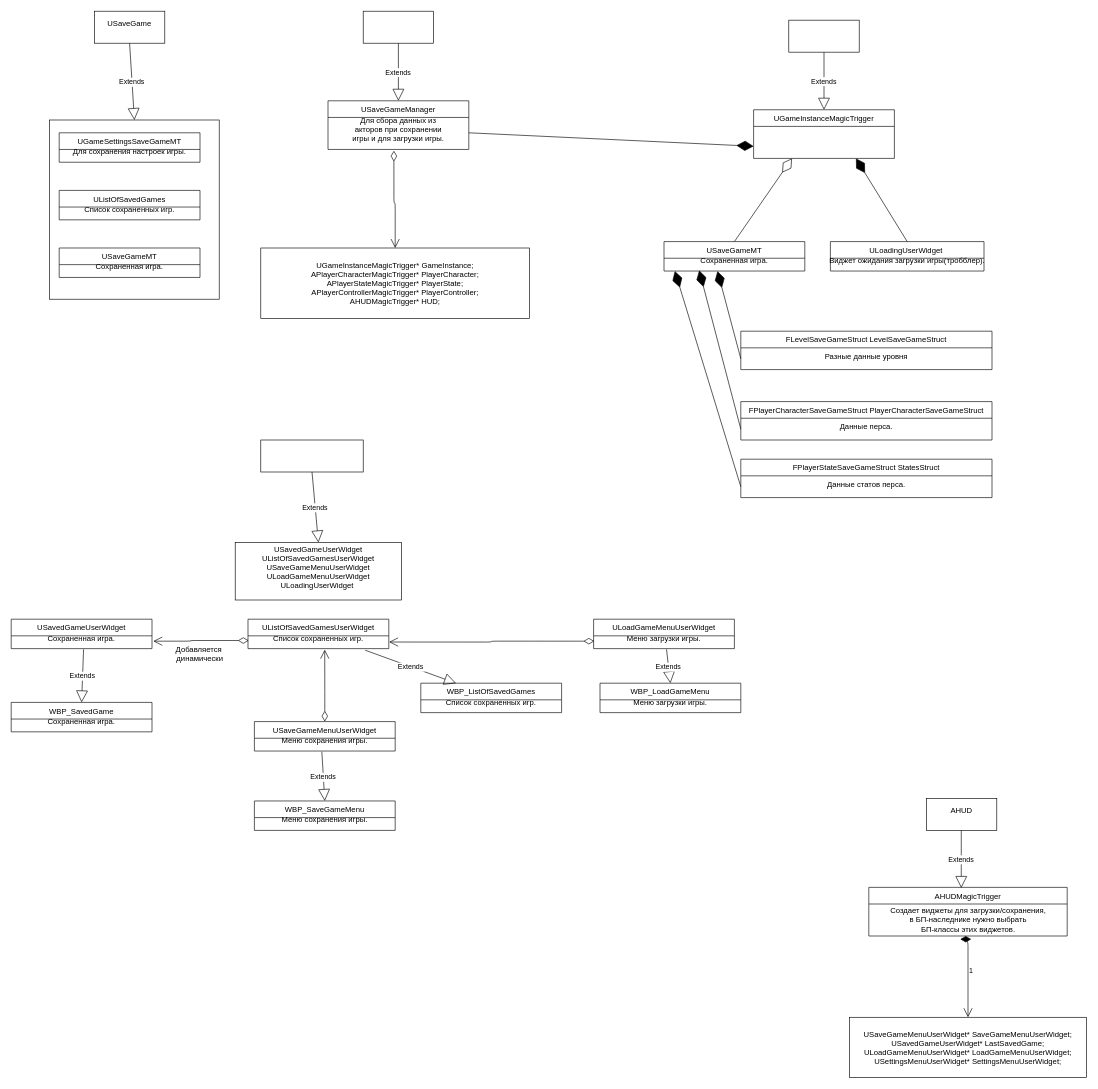
Image size: 1098x1089. Some labels were removed from this diagram. The shapes that lost their labels are listed below. From the top down, each one's centre as x and y in pixels, then its label:
At point (398, 27): "UObject".
At point (823, 36): "UGameInstance".
At point (311, 455): "UParentUserWidgetMT".
